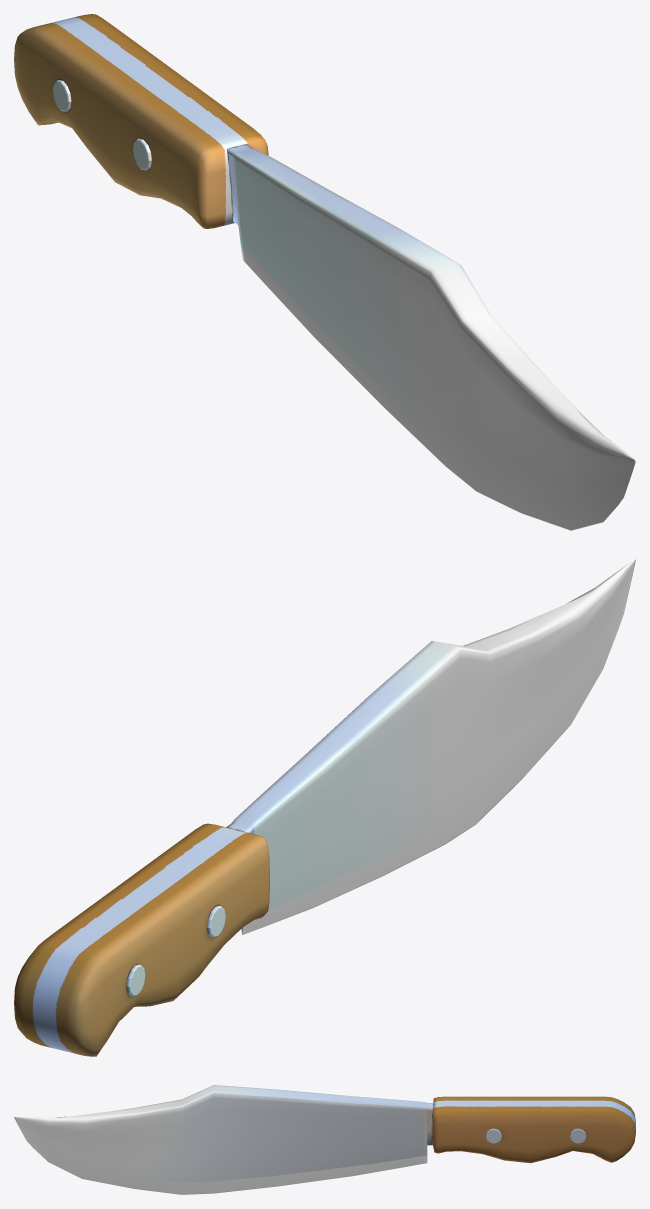
File: Brown_New_Pivot.fbx
3 views of the same model, one above another, from view 1: azimuth 30°, elevation 25°; view 2: azimuth 150°, elevation 25°; view 3: azimuth 270°, elevation 25° (orthographic). The views are drawn at different scales.
Visible parts, largest first — view 1: Knife.008, Knife.007; view 2: Knife.008, Knife.007; view 3: Knife.008, Knife.007.
Part boxes in pixels (box(x1,y1,x2,y2)): Knife.008: box(227, 144, 635, 530); Knife.007: box(14, 14, 268, 228); Knife.008: box(226, 559, 635, 934); Knife.007: box(14, 823, 269, 1056); Knife.008: box(14, 1085, 433, 1194); Knife.007: box(432, 1096, 635, 1163).
Size of the model in its own units: 0.0429 by 0.107 by 0.5657.
